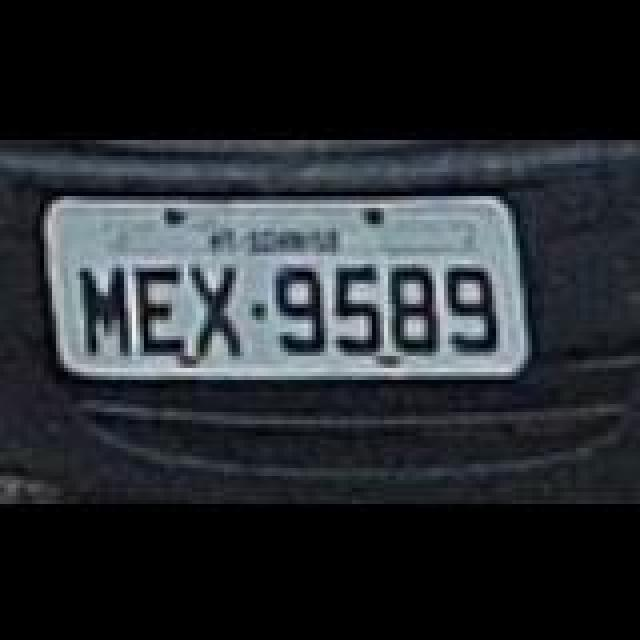5: (334, 262, 386, 354)
8: (390, 262, 442, 354)
9: (276, 262, 332, 354), (444, 262, 500, 354)
E: (134, 260, 186, 356)
M: (78, 260, 130, 356)
X: (194, 260, 246, 356)
